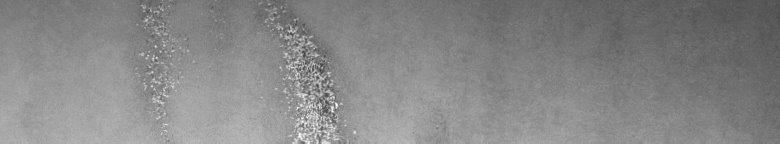hc: (258, 4, 356, 136)
